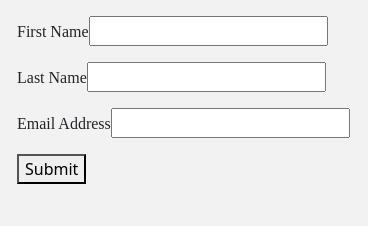
Test: shows an error for an invalid email format
Note: Type bad data
Type "not-an-email" into the field labelled "Email Address" at x=230, y=123, box [111,108,350,138]
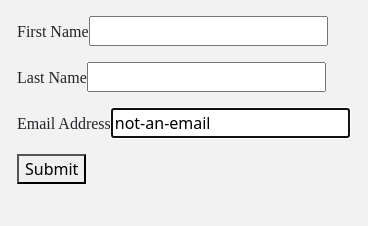
Note: Formik often validates on blur or on submit
Press Tab
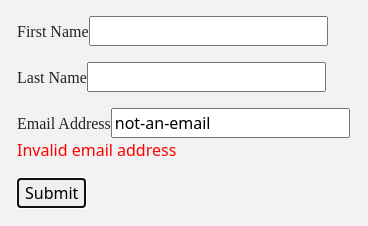
Result: the text "Invalid email address" is shown at [17,139,176,161]
